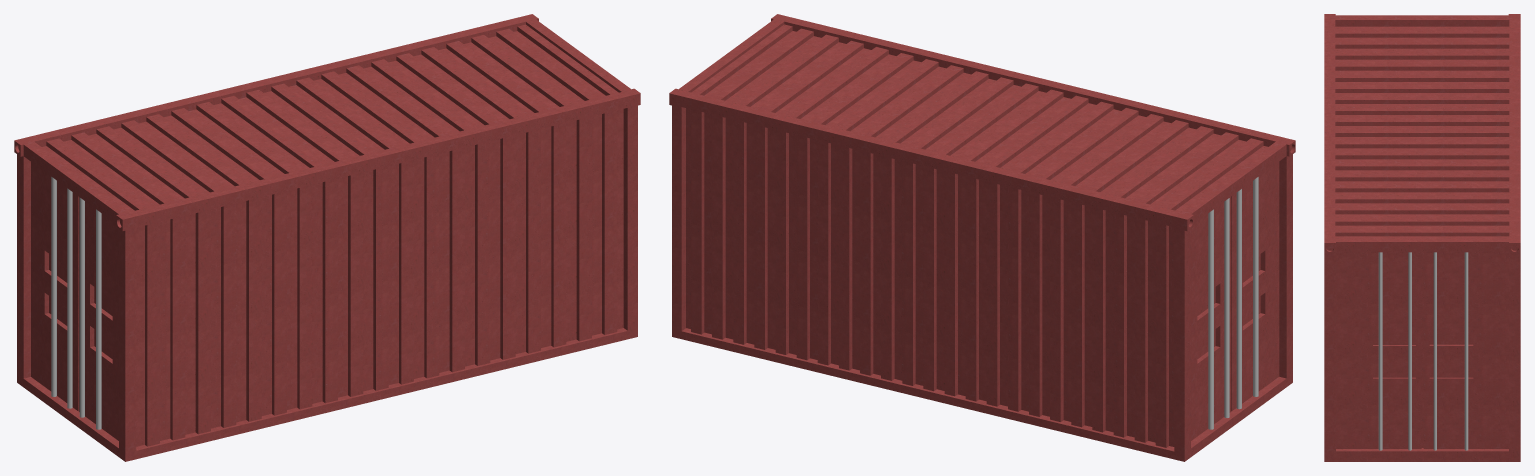
The model's file is Container.dae.
The picture shows the model from 3 angles, left to right: view 1: azimuth 30°, elevation 25°; view 2: azimuth 150°, elevation 25°; view 3: azimuth 270°, elevation 25°; orthographic projection. The views are drawn at different scales.
Parts seen in each view (by area): view 1: SketchUp (×7); view 2: SketchUp (×7); view 3: SketchUp (×6).
Boxes of the visible parts, x1,y1,x2,y2 form: SketchUp (×7): (14,14,640,461); SketchUp (×7): (669,14,1295,461); SketchUp (×6): (1324,14,1520,461).
Size of the model in its own units: 192 by 69.5 by 86.
